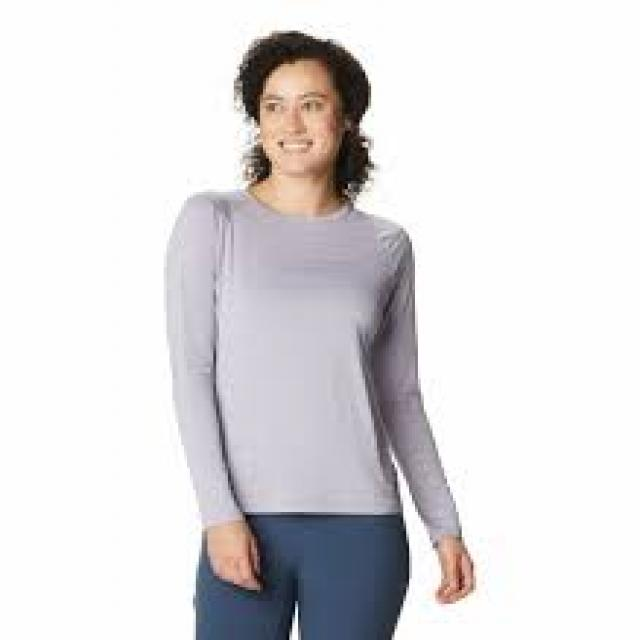plain: (159, 177, 475, 539)
